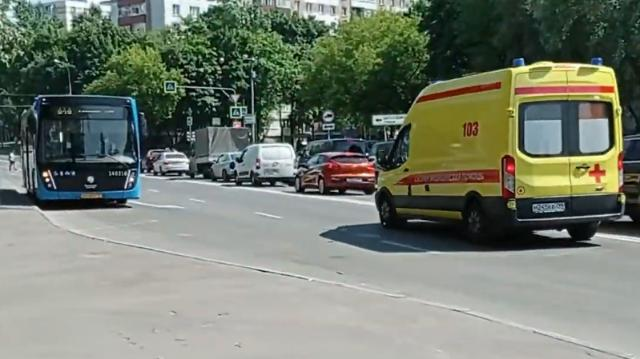intensive care unit: (375, 59, 625, 245)
non emergency car: (18, 97, 140, 202), (297, 155, 378, 196), (193, 129, 253, 181), (235, 145, 296, 187), (210, 153, 244, 184), (154, 152, 190, 176)
